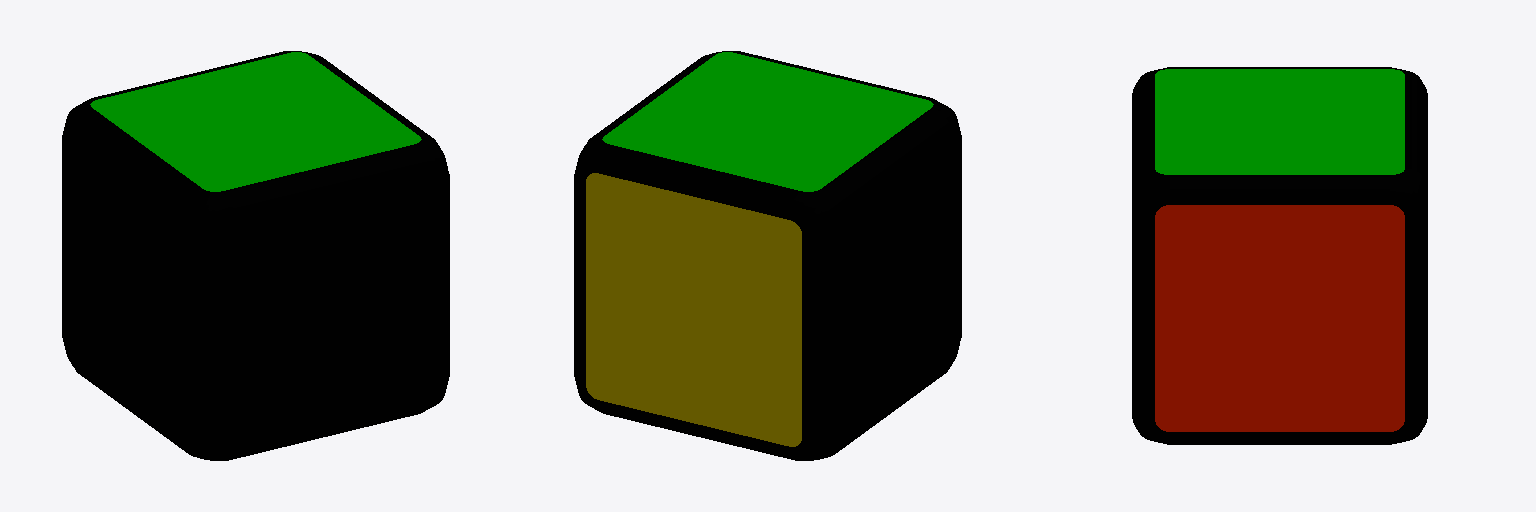
Rendered from corner_goy.obj.
The picture shows the model from 3 angles: view 1: azimuth 30°, elevation 25°; view 2: azimuth 150°, elevation 25°; view 3: azimuth 270°, elevation 25°; orthographic projection.
Visible parts, largest first — view 1: Cube; view 2: Cube; view 3: Cube.
Part boxes in pixels (x1,y1,x2,y2): Cube: (62, 51, 449, 460); Cube: (574, 51, 961, 460); Cube: (1132, 67, 1427, 444).
Bounding box in the file's own units: 2 × 2 × 2.